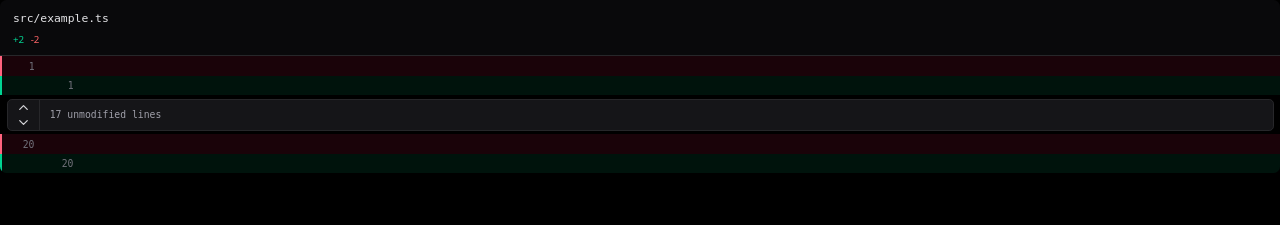
Test case: DiffViewer › does not render each hunk as a separate file
The image size is (1280, 225).
Expected: the text "src/example.ts" is shown once, 13,11 -> 109,25
Expected: the text "17 unmodified lines" is shown, 40,108 -> 171,121
Click the button with aria-label "17 unmodified lines collapsed": (24, 115) 6,98 -> 1274,131
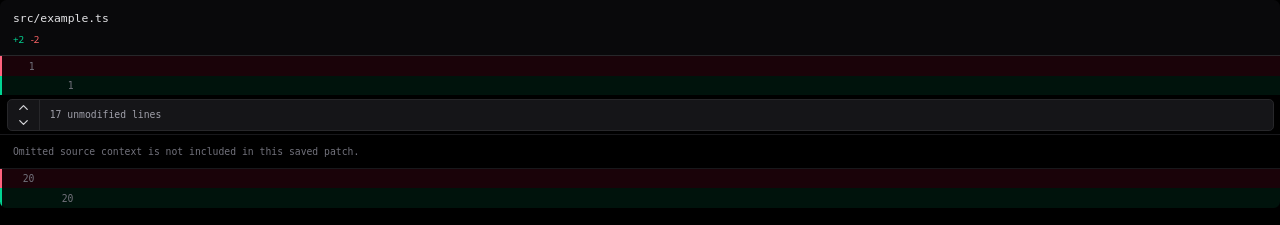
Now the text "Omitted source context is not included in this saved patch." is shown, box 0,134 -> 1279,169
